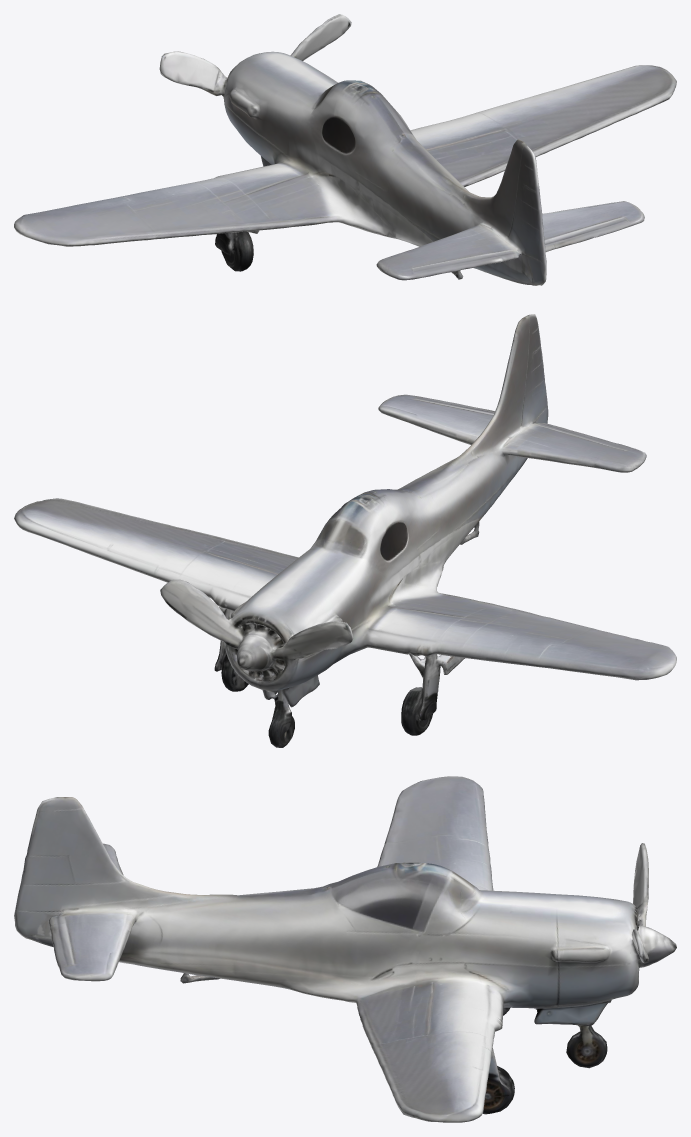
3 renders of one model, top to bottom at view 1: azimuth 30°, elevation 25°; view 2: azimuth 150°, elevation 25°; view 3: azimuth 270°, elevation 25°, orthographic. The views are drawn at different scales.
Parts seen in each view (by area): view 1: Mesh1.0; view 2: Mesh1.0; view 3: Mesh1.0.
Part boxes in pixels (x1,y1,x2,y2): Mesh1.0: [14, 14, 676, 285]; Mesh1.0: [14, 314, 676, 747]; Mesh1.0: [14, 776, 676, 1122].
Size of the model in its own units: 200 by 73.77 by 164.
1 material, 1 textured.
